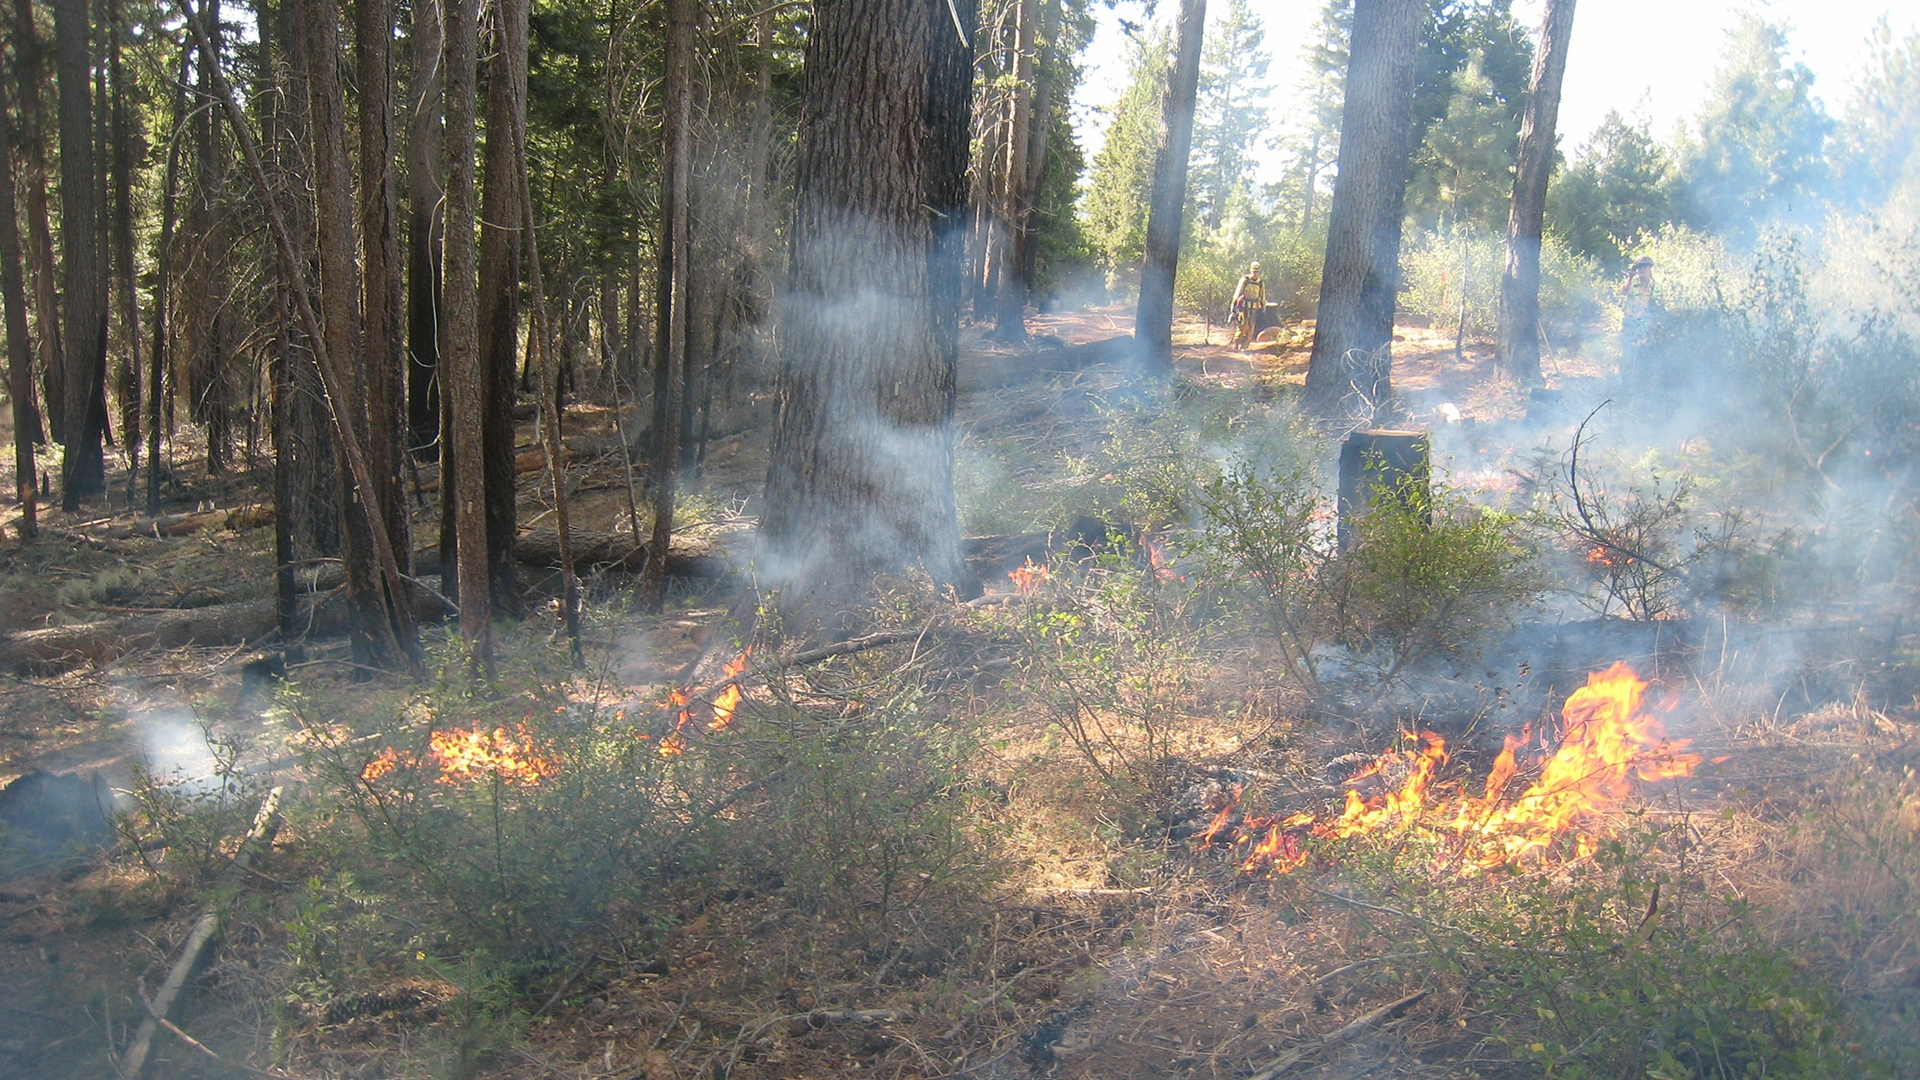fire: (1168, 553, 1785, 934), (204, 622, 866, 866), (1399, 380, 1833, 666), (891, 447, 1150, 696)
